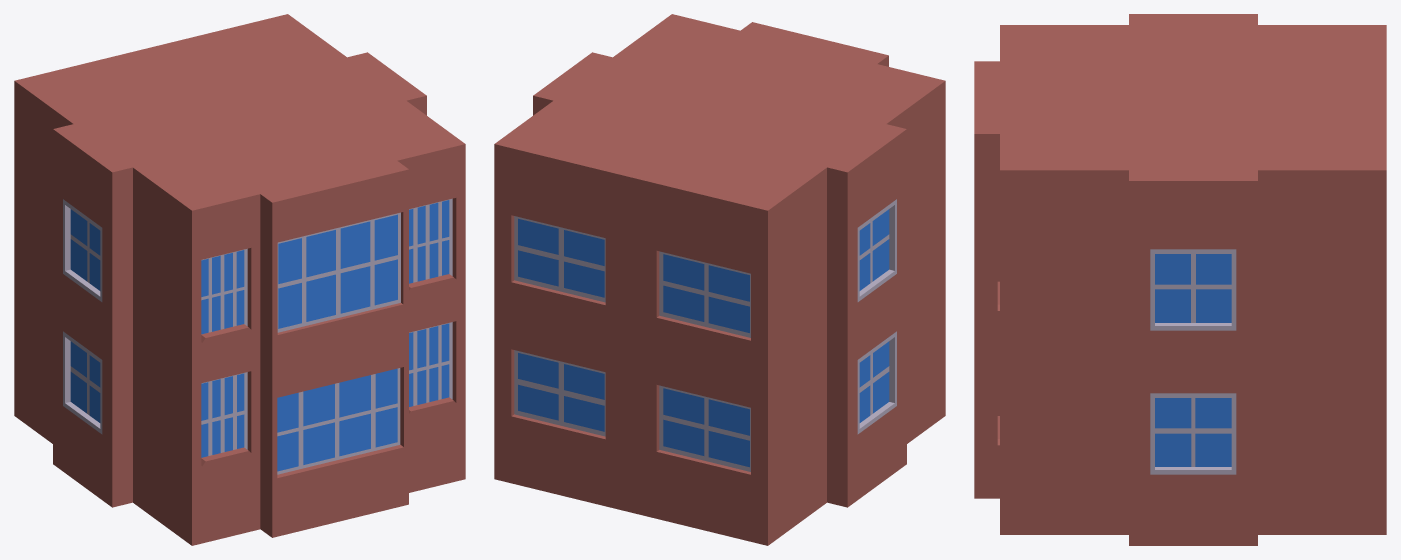
File: building_1x1_5_f.glb
The picture shows the model from 3 angles, left to right: view 1: azimuth 30°, elevation 25°; view 2: azimuth 150°, elevation 25°; view 3: azimuth 270°, elevation 25°; orthographic projection. The views are drawn at different scales.
Visible parts, largest first — view 1: SecondFloor; view 2: SecondFloor; view 3: SecondFloor.
Part boxes in pixels (bbox=[...]): SecondFloor: bbox=[14, 14, 465, 545]; SecondFloor: bbox=[494, 14, 945, 545]; SecondFloor: bbox=[974, 14, 1386, 545].
Bounding box in the file's own units: 1.6 × 1.63 × 1.67.
